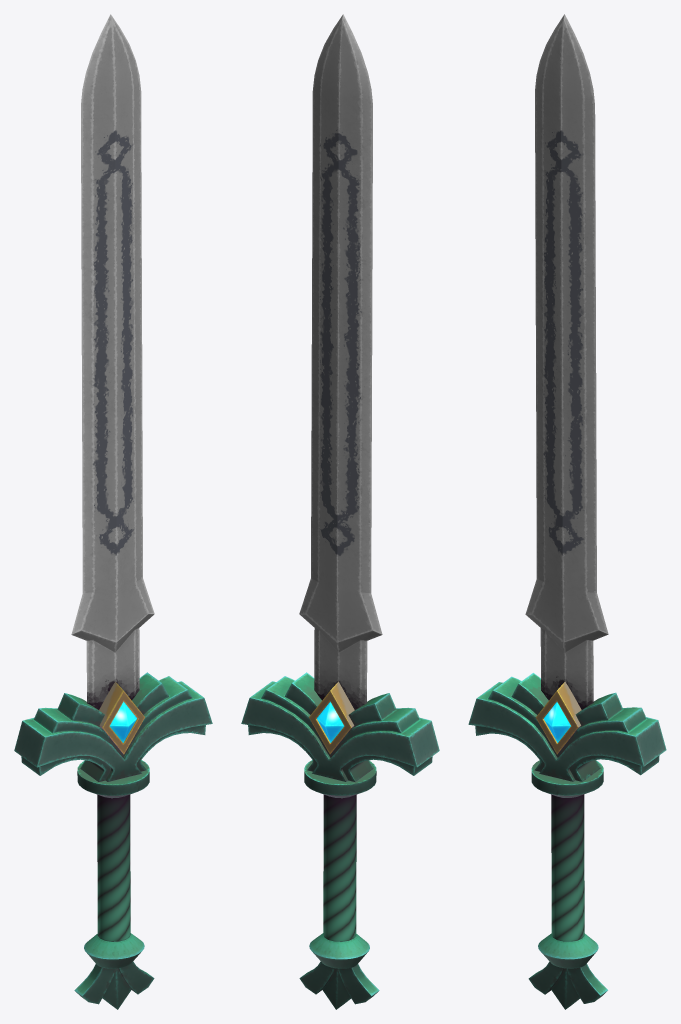
The model's file is goddess_sword_stylized.glb.
The picture shows the model from 3 angles, left to right: view 1: azimuth 30°, elevation 25°; view 2: azimuth 150°, elevation 25°; view 3: azimuth 330°, elevation 25°; orthographic projection.
Parts seen in each view (by area): view 1: blade_low, hilt_low, handle_low, gem_low, pommel2_low, pommel1_low; view 2: blade_low, hilt_low, handle_low, gem_low, pommel2_low, pommel1_low; view 3: blade_low, hilt_low, handle_low, gem_low, pommel2_low, pommel1_low.
Boxes of the visible parts, left/top/right/bottom form: blade_low: left=71, top=14, right=154, bottom=709; hilt_low: left=14, top=672, right=212, bottom=781; handle_low: left=77, top=760, right=149, bottom=968; gem_low: left=99, top=681, right=144, bottom=754; pommel2_low: left=74, top=961, right=154, bottom=1004; pommel1_low: left=102, top=968, right=131, bottom=1009; blade_low: left=299, top=14, right=382, bottom=709; hilt_low: left=241, top=672, right=439, bottom=781; handle_low: left=304, top=760, right=376, bottom=968; gem_low: left=309, top=681, right=354, bottom=754; pommel2_low: left=299, top=961, right=379, bottom=1004; pommel1_low: left=322, top=968, right=351, bottom=1009; blade_low: left=525, top=14, right=608, bottom=709; hilt_low: left=468, top=673, right=666, bottom=781; handle_low: left=531, top=760, right=603, bottom=968; gem_low: left=535, top=681, right=581, bottom=754; pommel2_low: left=528, top=961, right=607, bottom=1003; pommel1_low: left=551, top=968, right=580, bottom=1009.
Size of the model in its own units: 0.0232 by 0.1254 by 0.0083.
Materials: 1 (1 with a texture image).
